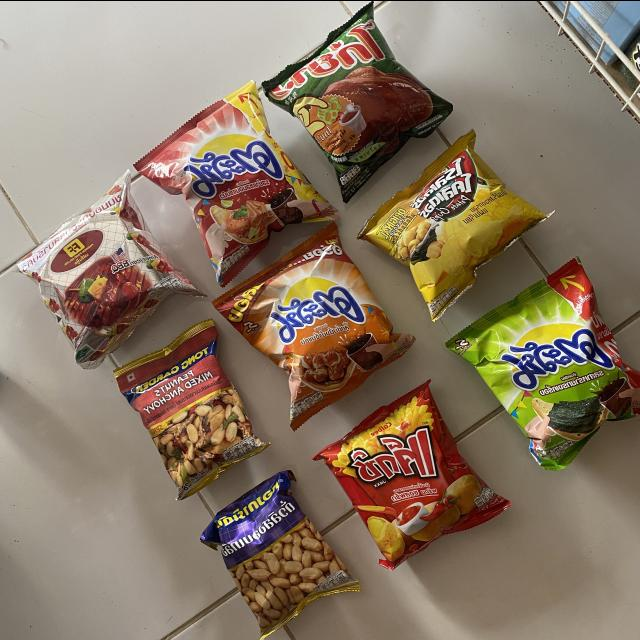plastik: (213, 222, 415, 429), (135, 81, 339, 285), (446, 257, 640, 469), (264, 1, 452, 201), (313, 380, 510, 569), (358, 130, 553, 319), (19, 170, 204, 368), (114, 319, 269, 498), (201, 469, 359, 638)
